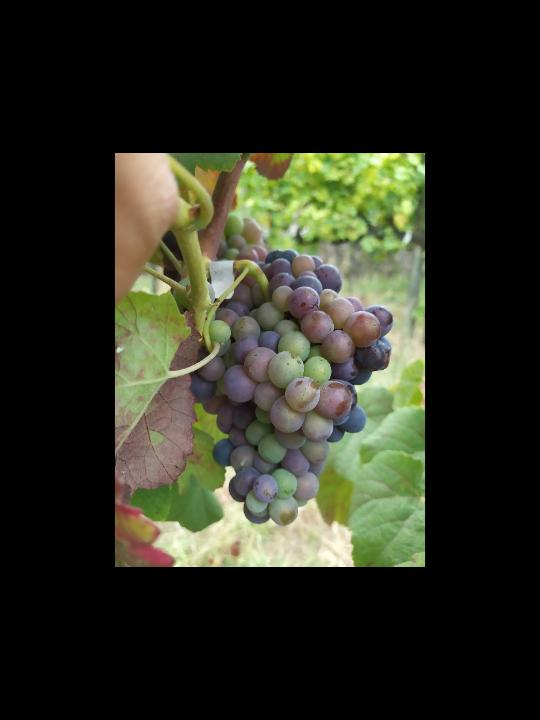grape: (188, 247, 395, 528)
